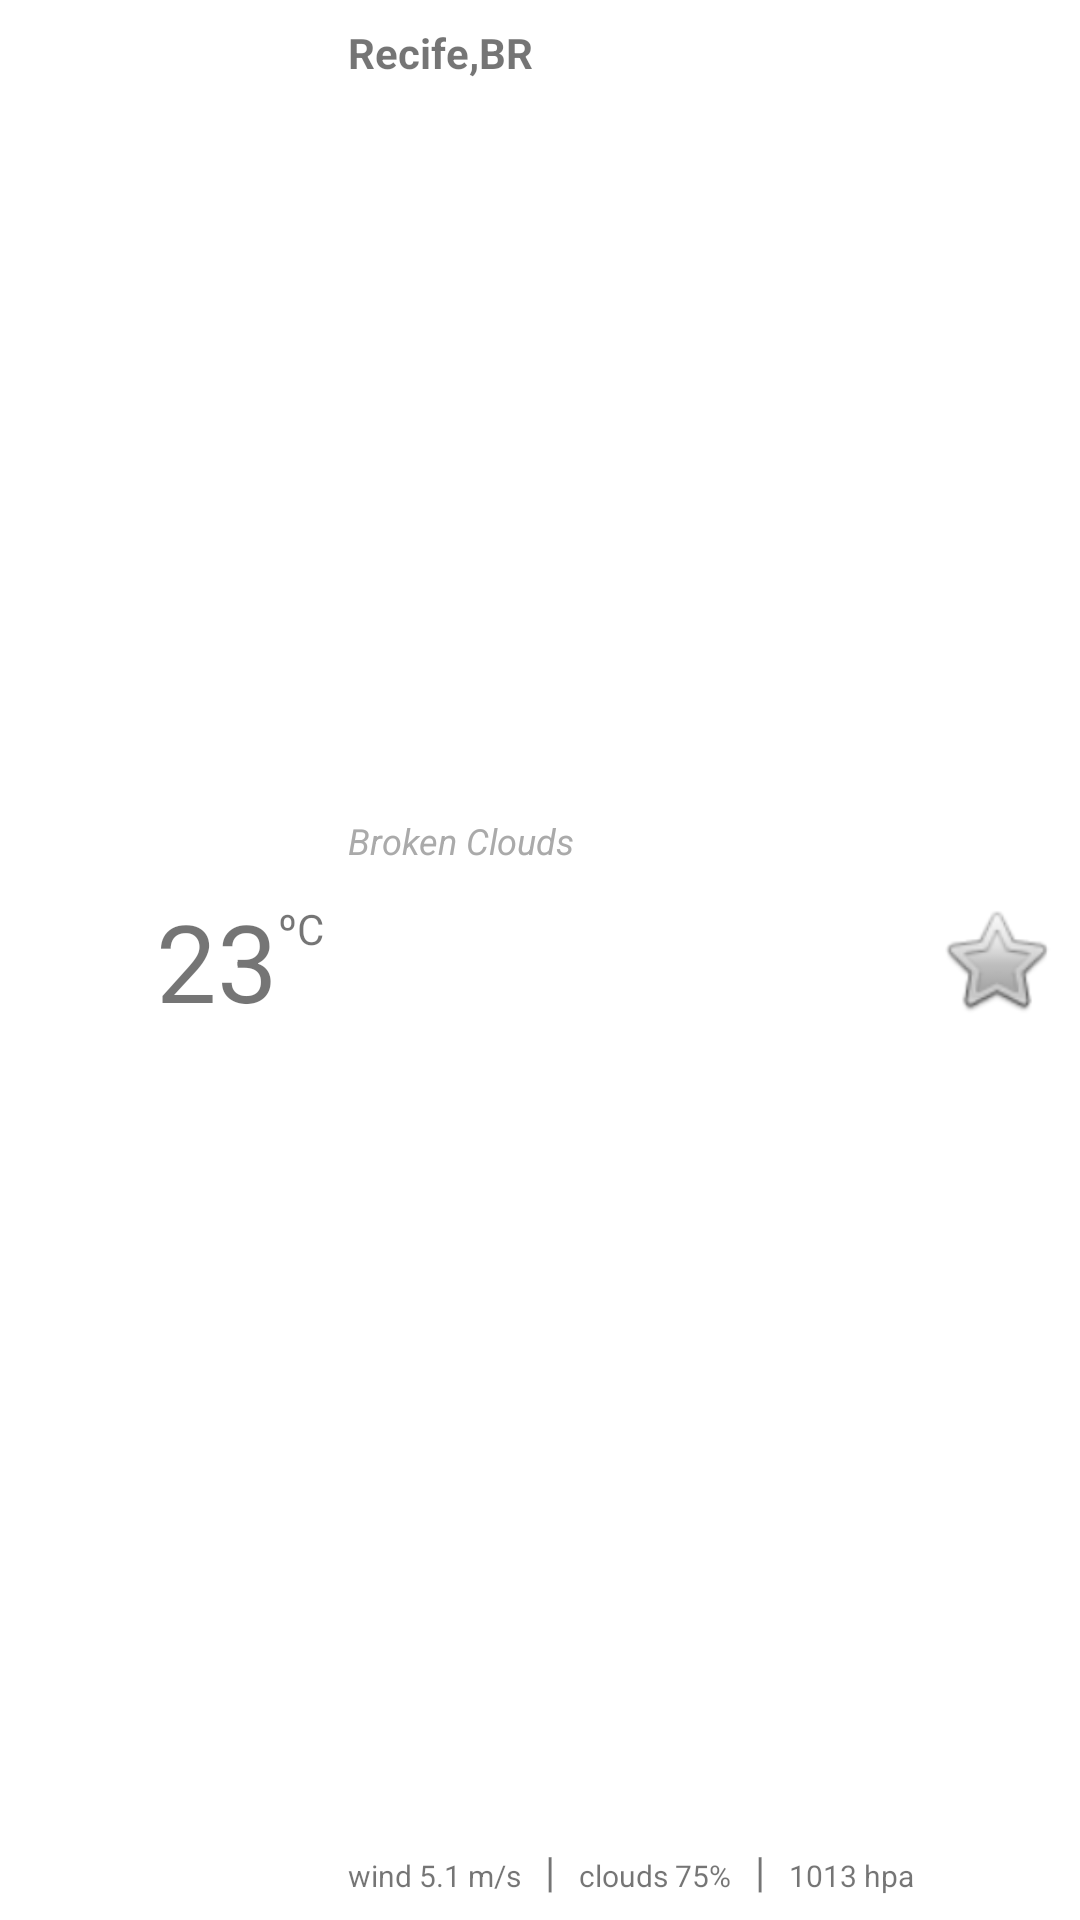

Icons on this 1080 × 1920 Android screen, each with the point to tap as (x=x, y=y):
star: (x=997, y=961)
